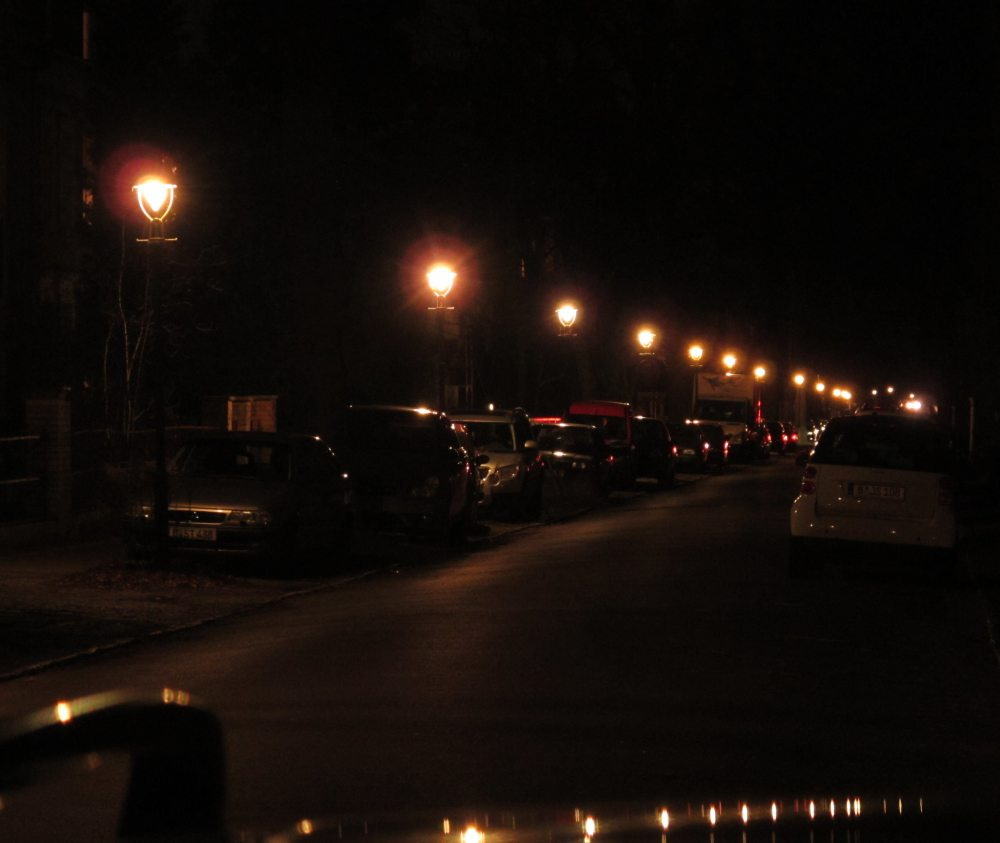car: (115, 427, 355, 574)
